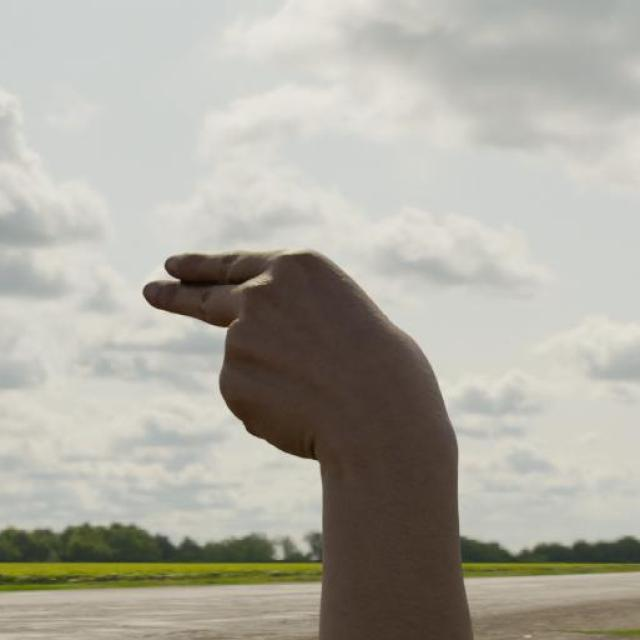H: (138, 249, 466, 463)
